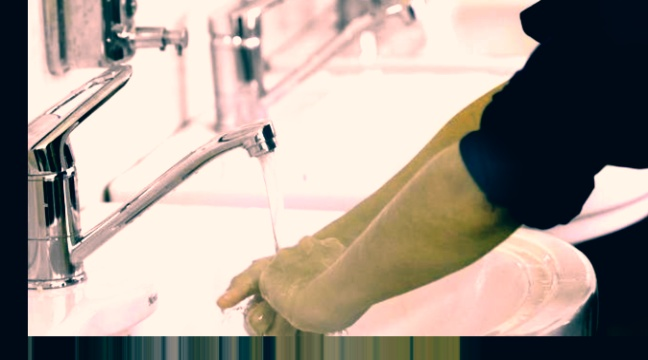washing hand: (48, 75, 426, 329)
